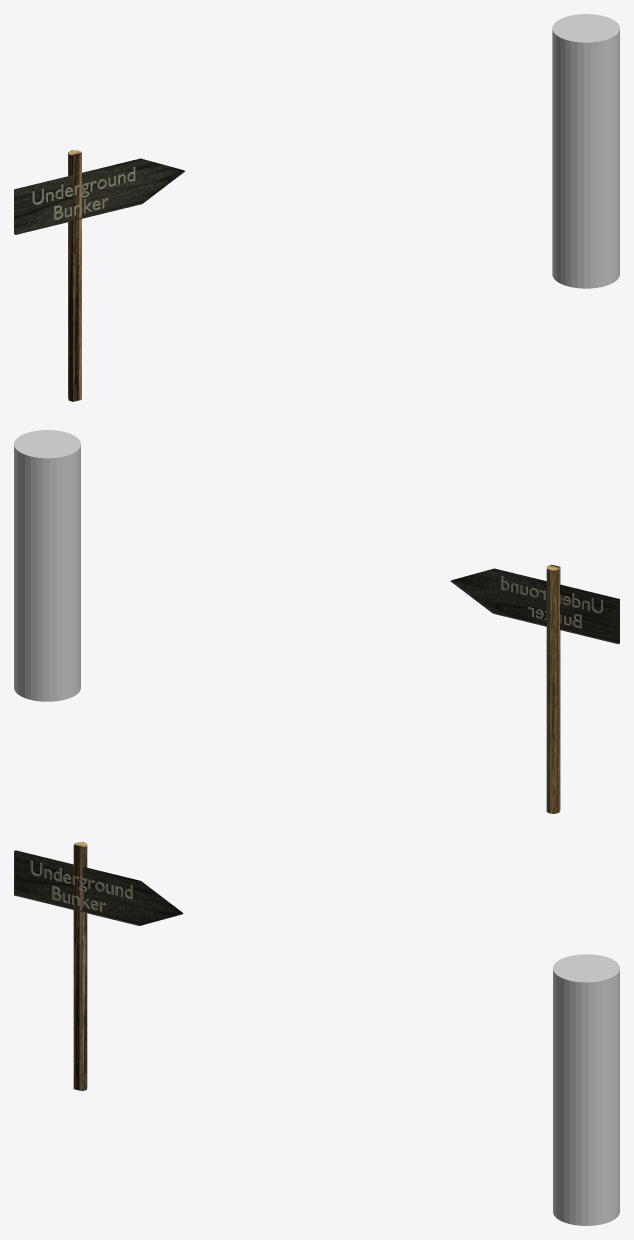
File: sign.glb
3 views of the same model, one above another, from view 1: azimuth 30°, elevation 25°; view 2: azimuth 150°, elevation 25°; view 3: azimuth 330°, elevation 25° (orthographic).
Parts seen in each view (by area): view 1: Ref-noimp, Sign-col, Post-col, Text; view 2: Ref-noimp, Sign-col, Post-col, Text; view 3: Ref-noimp, Sign-col, Post-col, Text.
Part boxes in pixels (x1=…): Ref-noimp: x1=552, y1=14, x2=619, y2=288; Sign-col: x1=14, y1=158, x2=184, y2=234; Post-col: x1=68, y1=150, x2=81, y2=401; Text: x1=32, y1=166, x2=135, y2=220; Ref-noimp: x1=14, y1=430, x2=80, y2=701; Sign-col: x1=450, y1=568, x2=619, y2=644; Post-col: x1=546, y1=564, x2=560, y2=813; Text: x1=501, y1=576, x2=602, y2=628; Ref-noimp: x1=553, y1=954, x2=619, y2=1225; Sign-col: x1=14, y1=850, x2=183, y2=925; Post-col: x1=73, y1=842, x2=87, y2=1091; Text: x1=30, y1=861, x2=132, y2=911.
Bounding box in the file's own units: 5.14 × 2 × 0.5.
3 materials, 3 textured.
